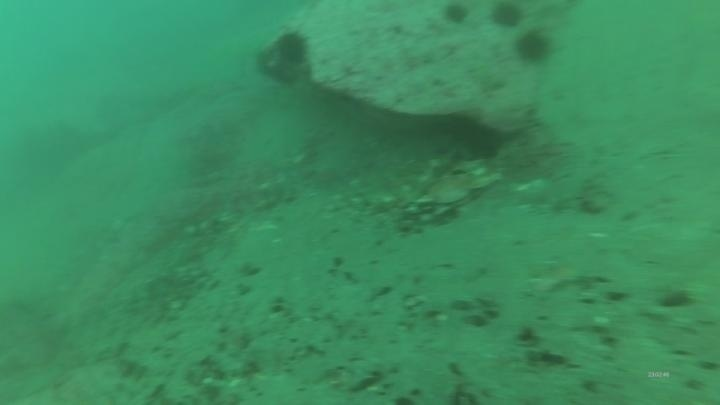echinus: (512, 27, 555, 67), (272, 28, 312, 68), (488, 1, 526, 32), (440, 1, 472, 28)
